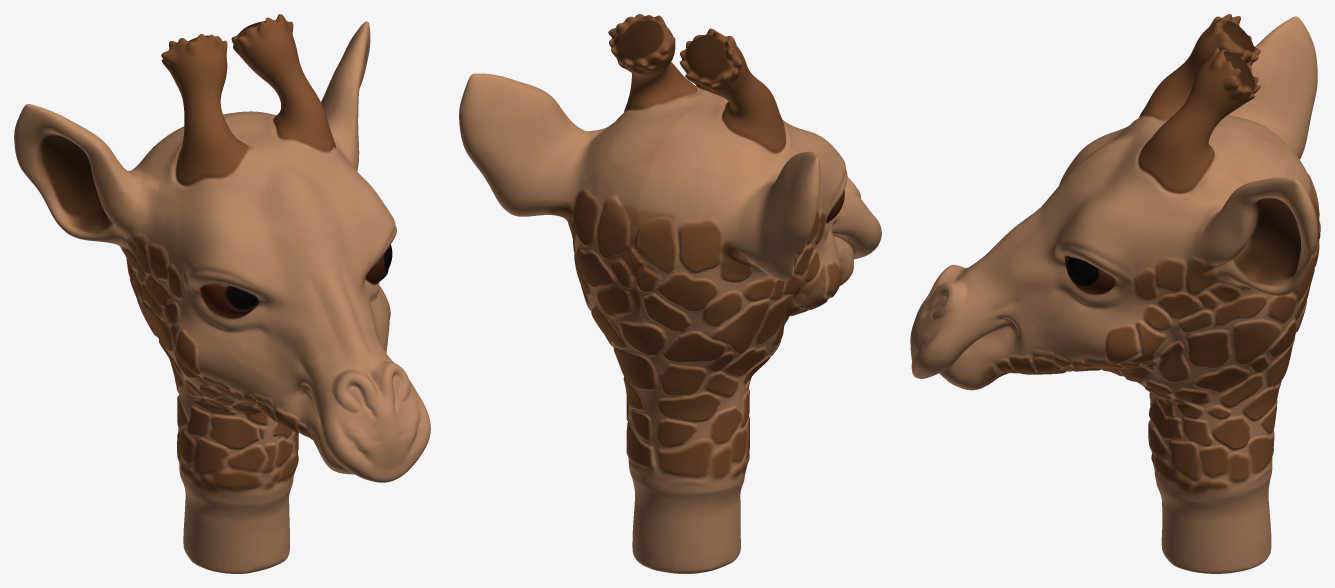
Rendered from Tete_Girafe.glb.
3 renders of one model, left to right at view 1: azimuth 30°, elevation 25°; view 2: azimuth 150°, elevation 25°; view 3: azimuth 270°, elevation 25°, orthographic. The views are drawn at different scales.
Visible parts, largest first — view 1: Tete_Girafe; view 2: Tete_Girafe; view 3: Tete_Girafe.
Part boxes in pixels (x1,y1,x2,y2): Tete_Girafe: (14, 14, 430, 573); Tete_Girafe: (459, 14, 881, 573); Tete_Girafe: (910, 14, 1320, 573).
Size of the model in its own units: 4.37 by 6.22 by 4.44.
